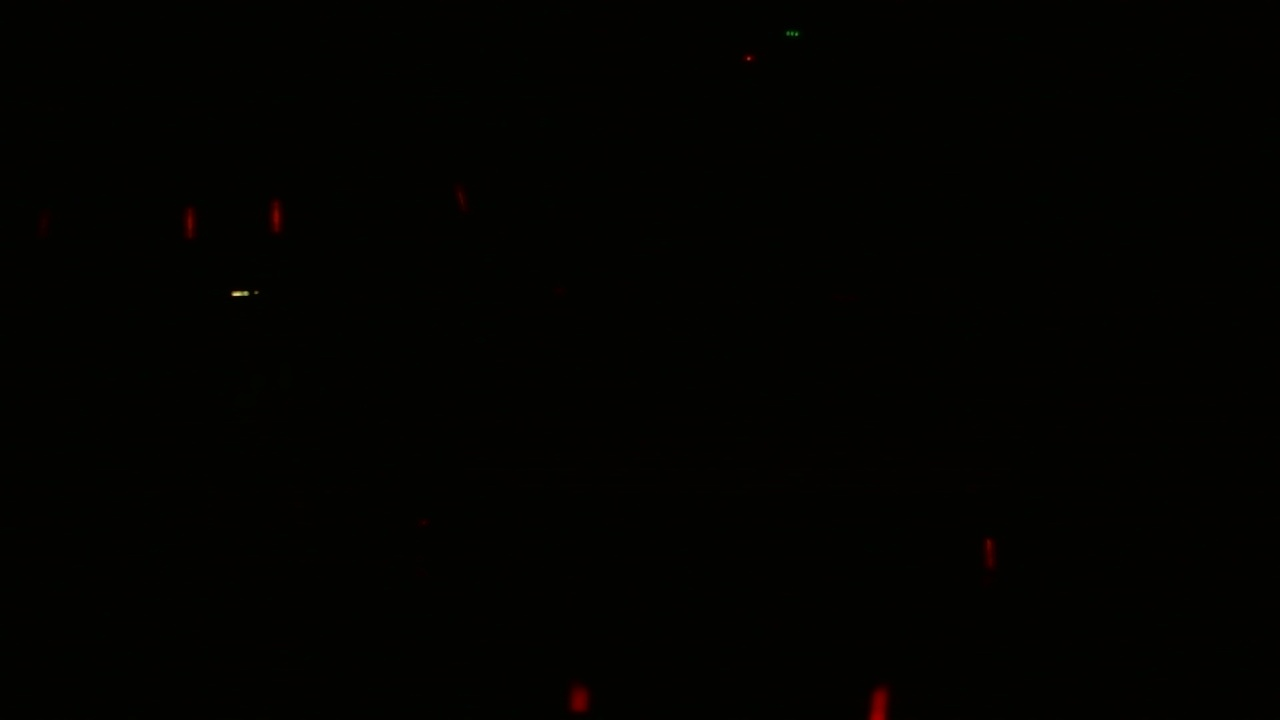pair1: (179, 196, 290, 249)
